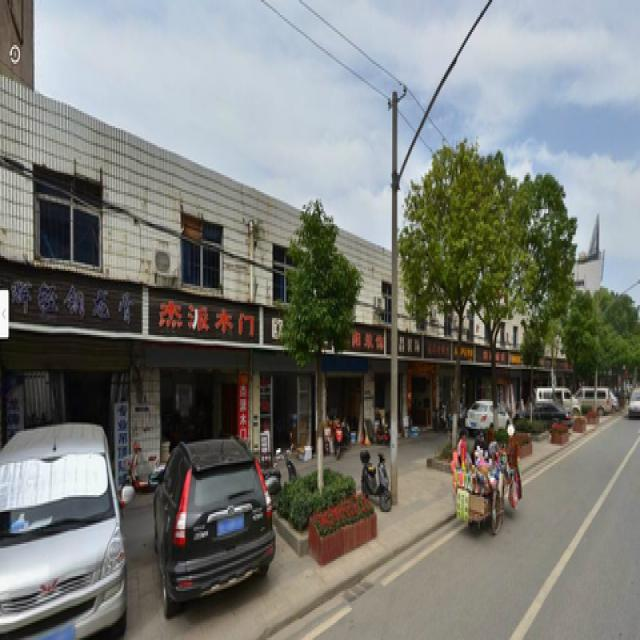cinn: (281, 211, 352, 480)
